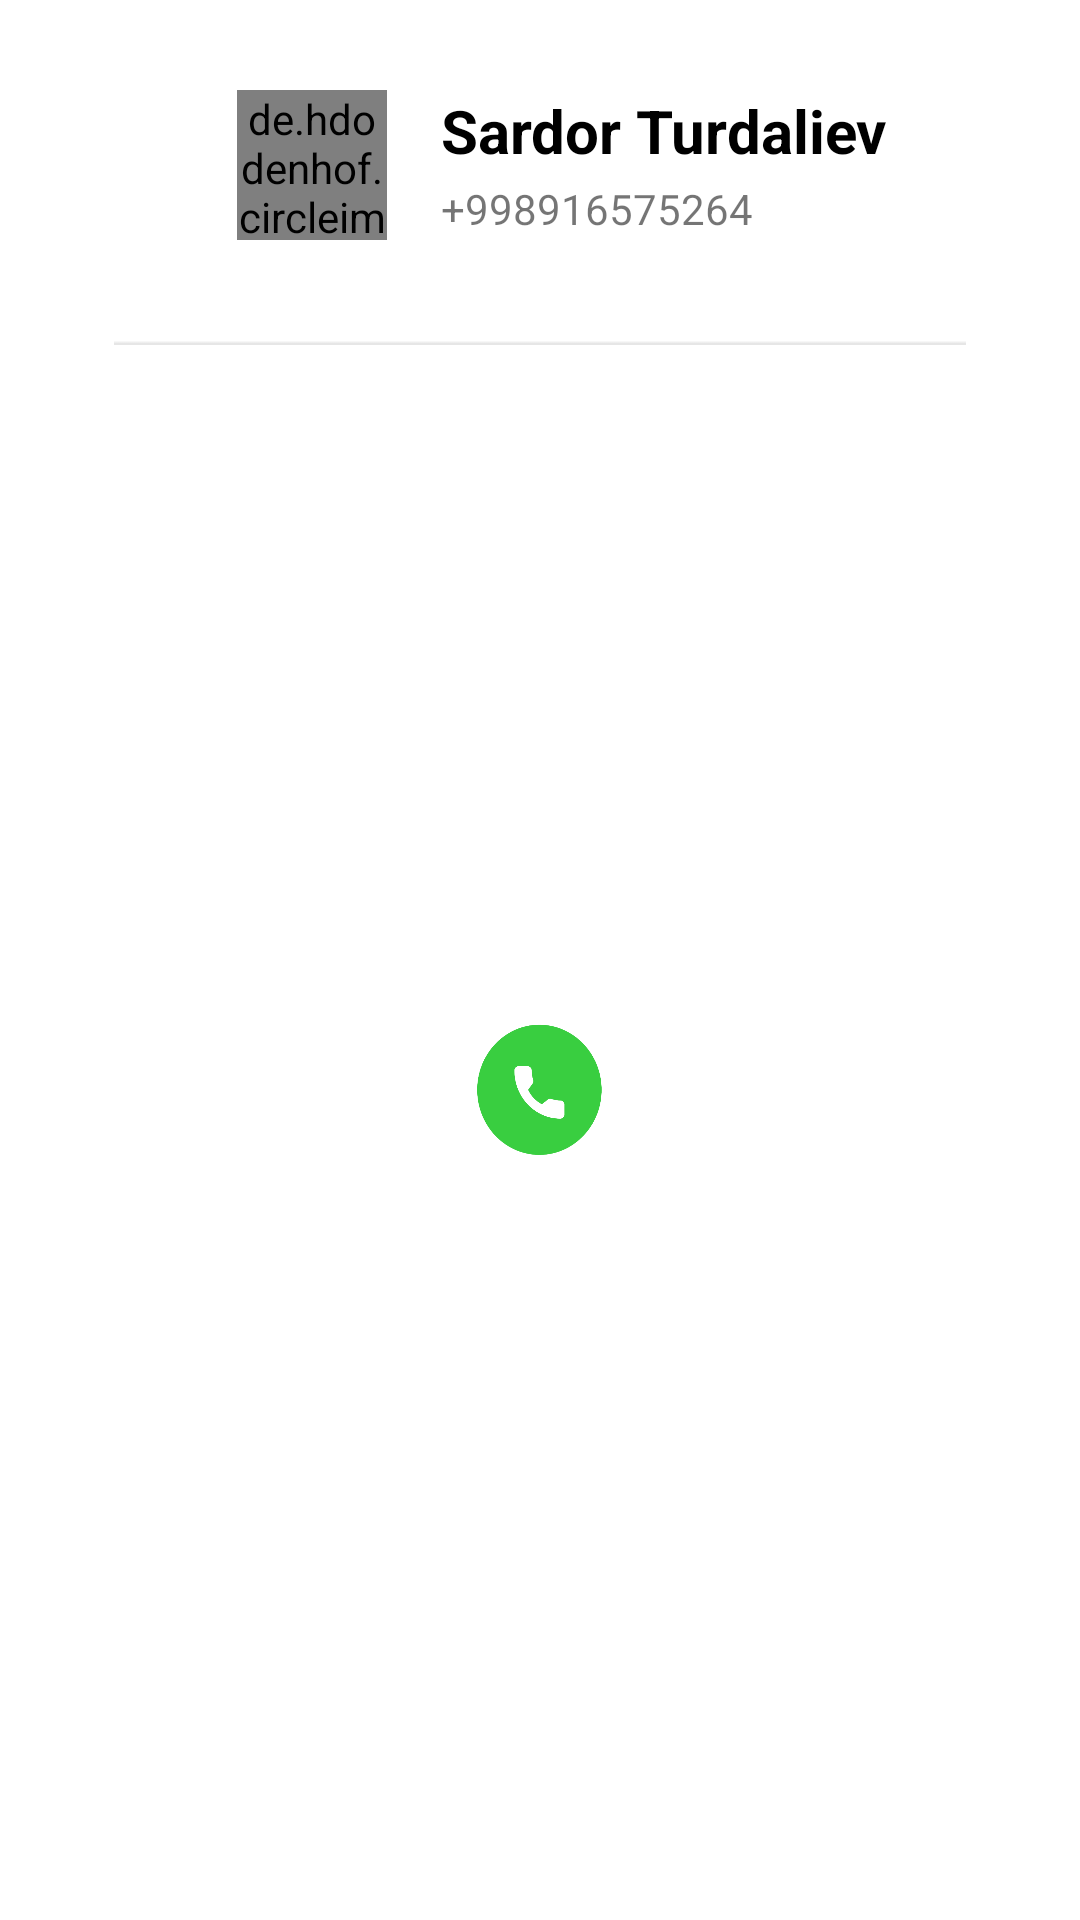

Where icons sit on this 1080 × 1920 app screen, as [x1, y1, x2, y2]:
phoneimg: [477, 1025, 602, 1155]
